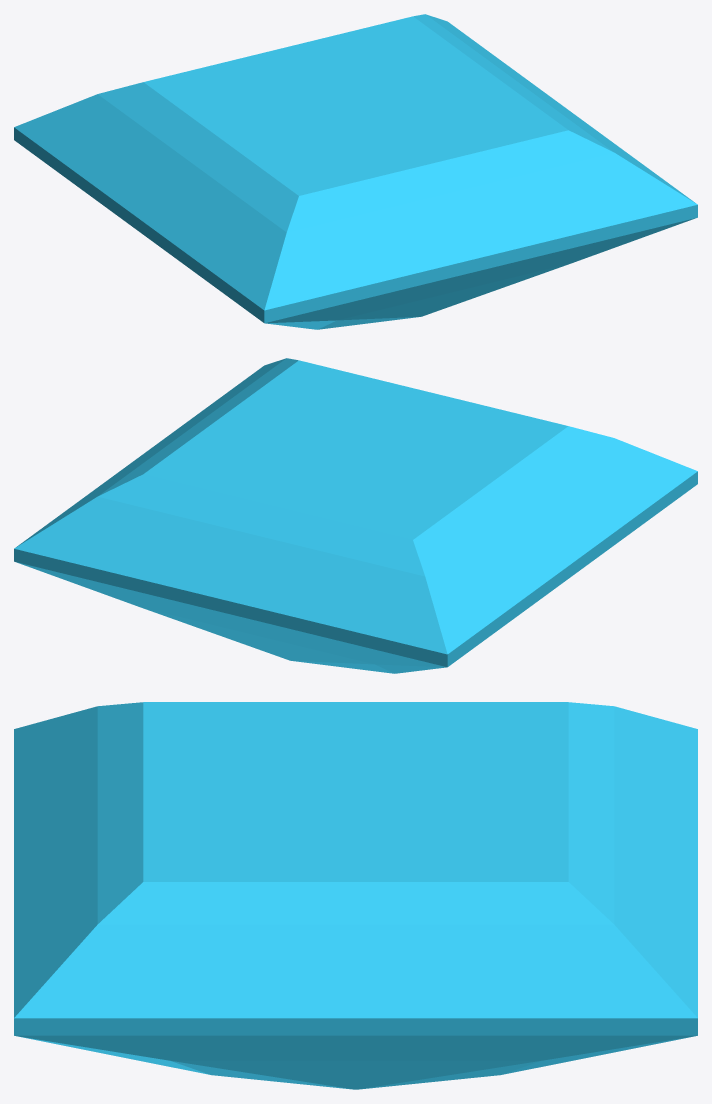
File: princess.glb
The picture shows the model from 3 angles, top to bottom: view 1: azimuth 30°, elevation 25°; view 2: azimuth 150°, elevation 25°; view 3: azimuth 270°, elevation 25°; orthographic projection. The views are drawn at different scales.
Parts seen in each view (by area): view 1: Object_166; view 2: Object_166; view 3: Object_166.
Boxes of the visible parts, x1,y1,x2,y2 form: Object_166: (14,14,697,329); Object_166: (14,358,697,673); Object_166: (14,702,697,1089).
Bounding box in the file's own units: 2 × 0.716 × 2.
